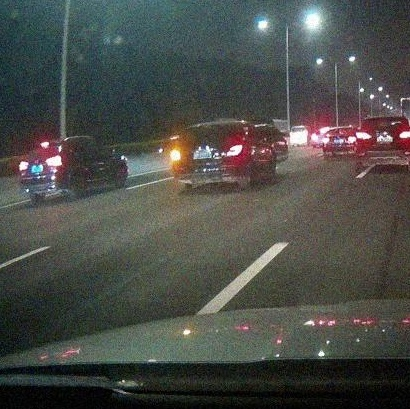L_light: (356, 131, 373, 140), (171, 151, 185, 159), (19, 161, 30, 170)
R_light: (227, 144, 243, 156), (46, 159, 62, 166), (398, 130, 410, 139)
T_light: (204, 124, 218, 128), (378, 117, 390, 119), (41, 142, 49, 144)
night-brake: (19, 138, 73, 206)
night-left: (171, 121, 246, 191)
night-no: (355, 116, 410, 172)
